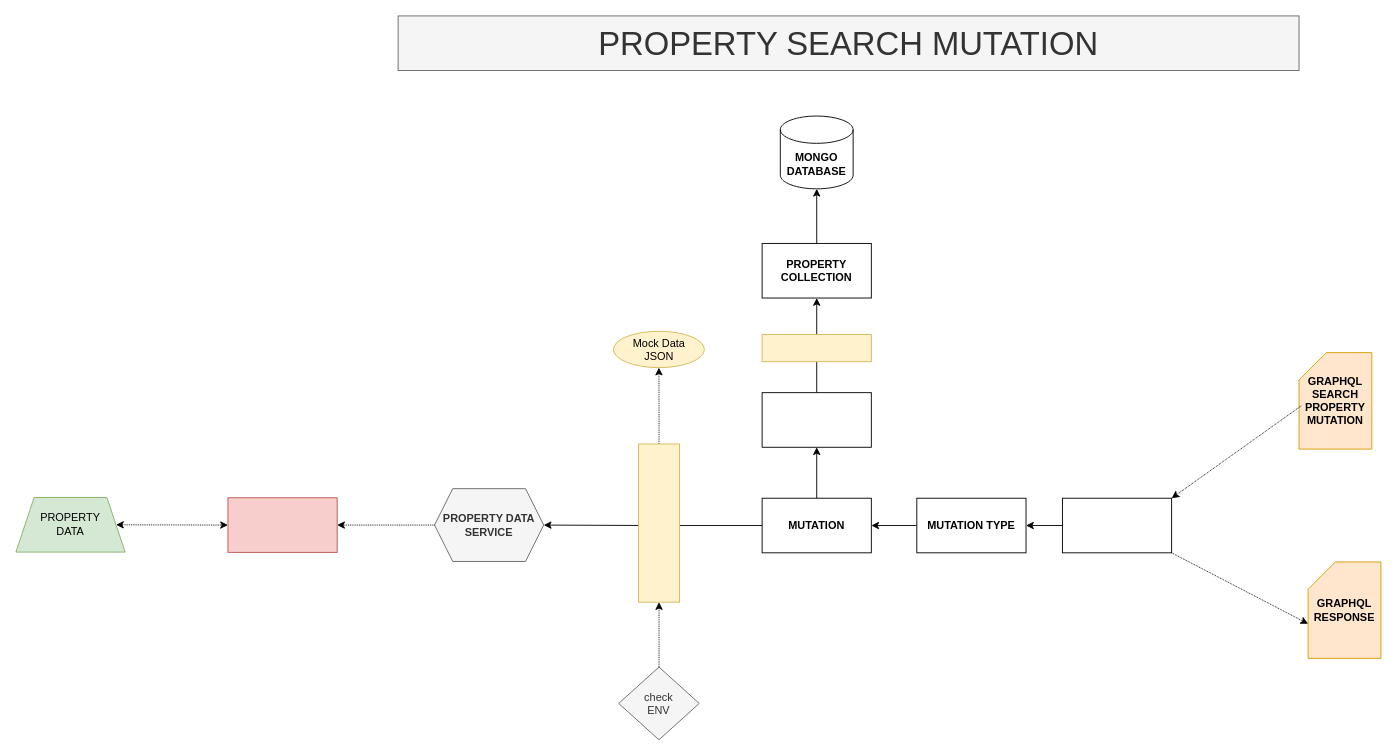
Some shapes in this 1397 by 756 pixel diagram are drawn without their labels. Each missing label, with the centre of its shape:
"GRAPHQL CONTROLLER" belongs at [1117,525].
"Guard Against Duplicate" belongs at [816,348].
"HTTPARTY" belongs at [282,524].
"Mock Data Middleware" belongs at [658,522].
"PROPERTY MODEL" belongs at [816,419].
